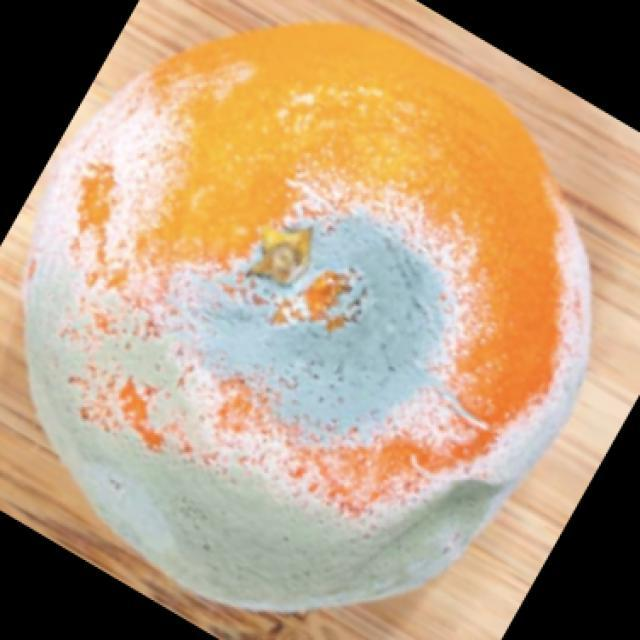sangat-busuk: (25, 25, 589, 610)
